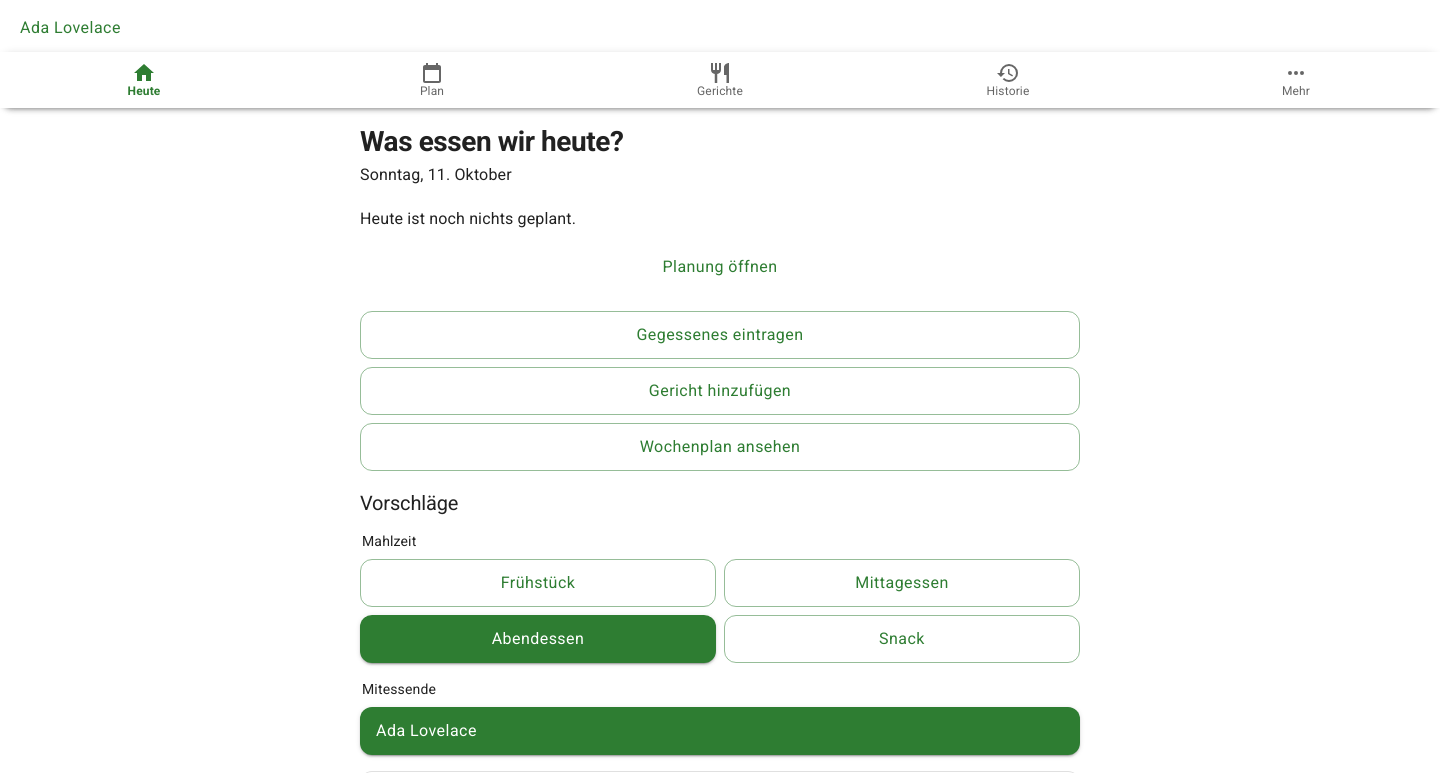
Test: zeigt eine erfolgreiche Backend-Verbindung
Step 1. Click the link "Mehr" → (1296, 80), box [1282,61,1310,98]
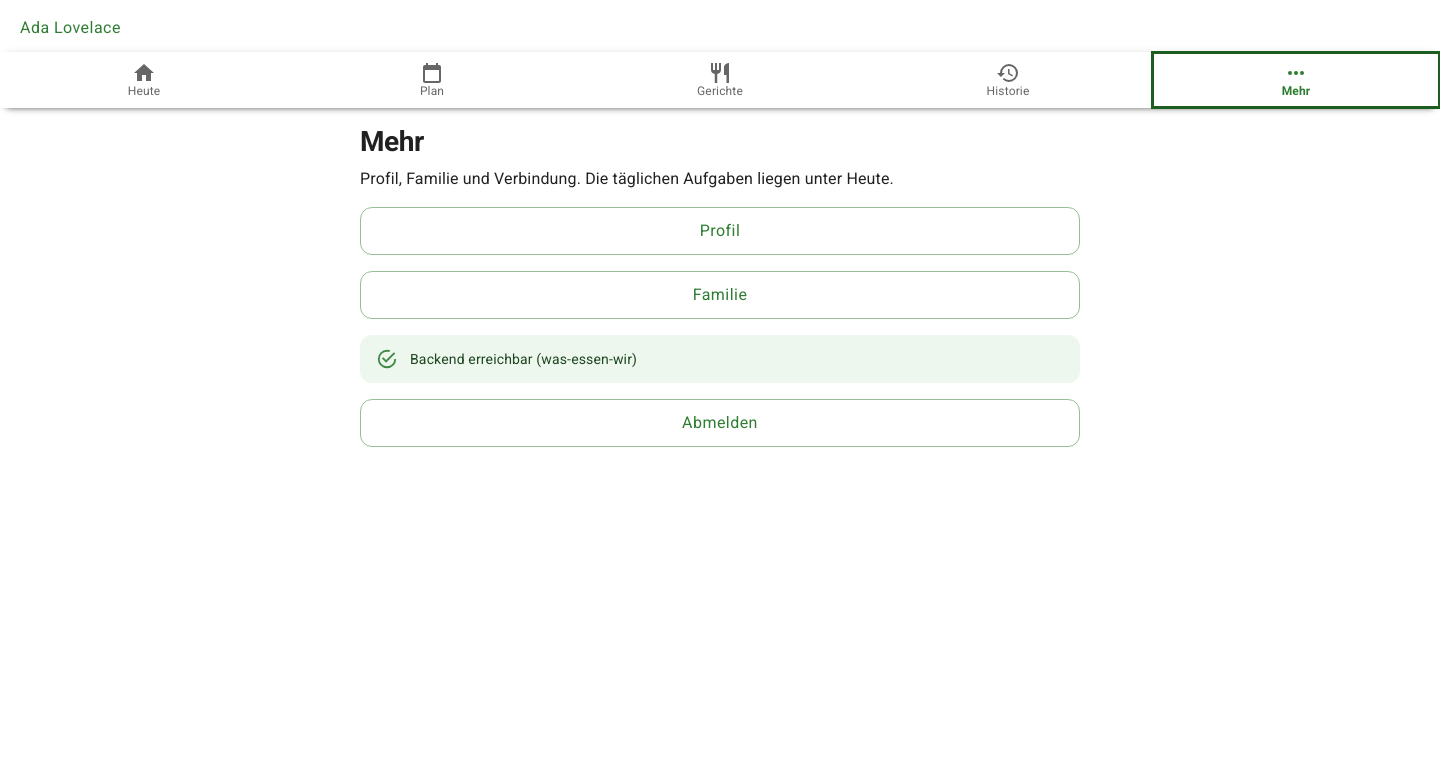
Result: the text "Backend erreichbar (was-essen-wir)" is shown at [410,351,637,367]
